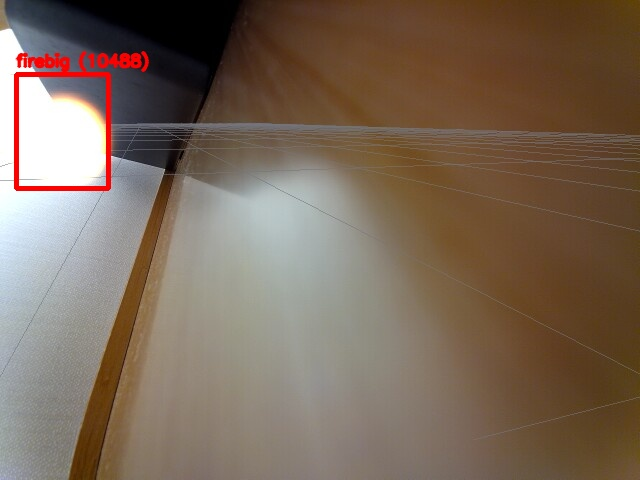firebig: (16, 74, 108, 188)
